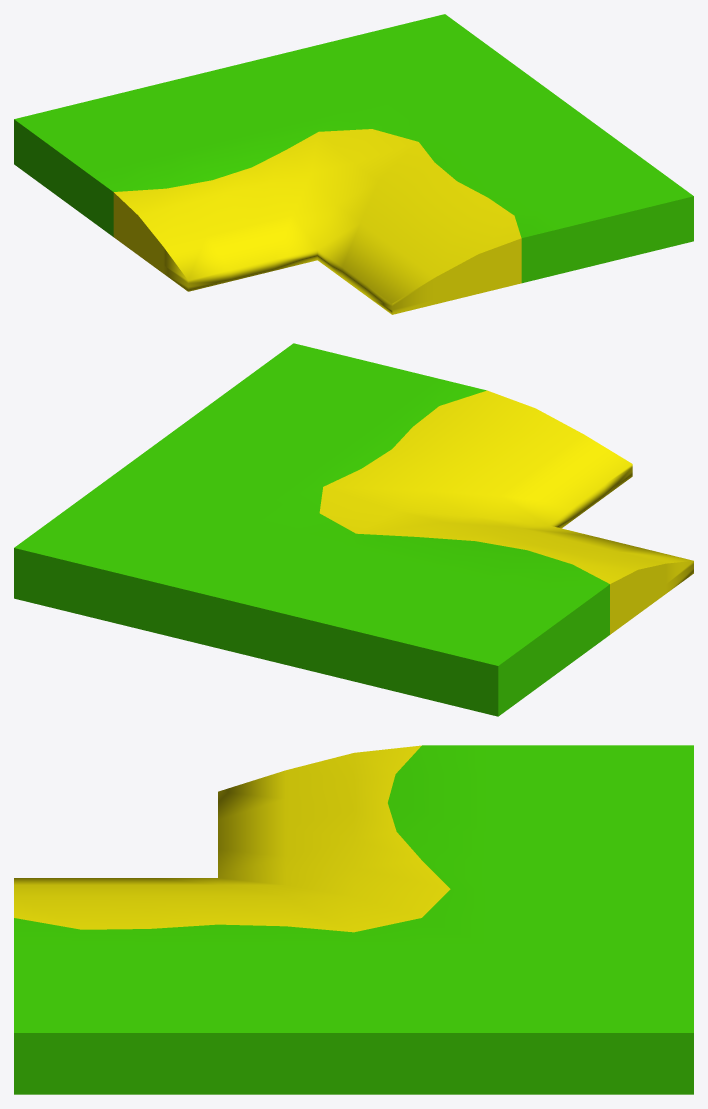
File: island_corner_01.fbx
3 renders of one model, top to bottom at view 1: azimuth 30°, elevation 25°; view 2: azimuth 150°, elevation 25°; view 3: azimuth 270°, elevation 25°, orthographic. The views are drawn at different scales.
Visible parts, largest first — view 1: Box001; view 2: Box001; view 3: Box001.
Boxes of the visible parts, x1,y1,x2,y2 form: Box001: [14, 14, 693, 314]; Box001: [14, 343, 693, 716]; Box001: [14, 745, 693, 1094].
Bounding box in the file's own units: 400 × 40 × 400.
